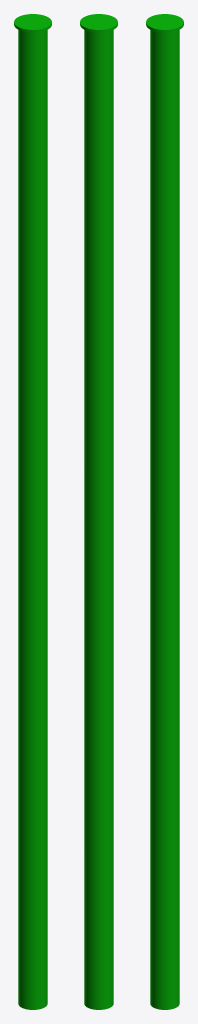
3 views of the same model, side by side, from view 1: azimuth 90°, elevation 25°; view 2: azimuth 210°, elevation 25°; view 3: azimuth 270°, elevation 25° (orthographic).
Parts seen in each view (by area): view 1: CYLINDER 1 of SUBEQUIPMENT /C2/PRIM, /C2/N1; view 2: CYLINDER 1 of SUBEQUIPMENT /C2/PRIM, /C2/N1; view 3: CYLINDER 1 of SUBEQUIPMENT /C2/PRIM, /C2/N1.
Part boxes in pixels (x1=…): CYLINDER 1 of SUBEQUIPMENT /C2/PRIM: x1=18, y1=16, x2=47, y2=1009; /C2/N1: x1=14, y1=14, x2=51, y2=38; CYLINDER 1 of SUBEQUIPMENT /C2/PRIM: x1=84, y1=16, x2=113, y2=1009; /C2/N1: x1=80, y1=14, x2=117, y2=38; CYLINDER 1 of SUBEQUIPMENT /C2/PRIM: x1=150, y1=16, x2=179, y2=1009; /C2/N1: x1=146, y1=14, x2=183, y2=38.
Size of the model in its own units: 0.9839 by 28.1 by 0.9839.
